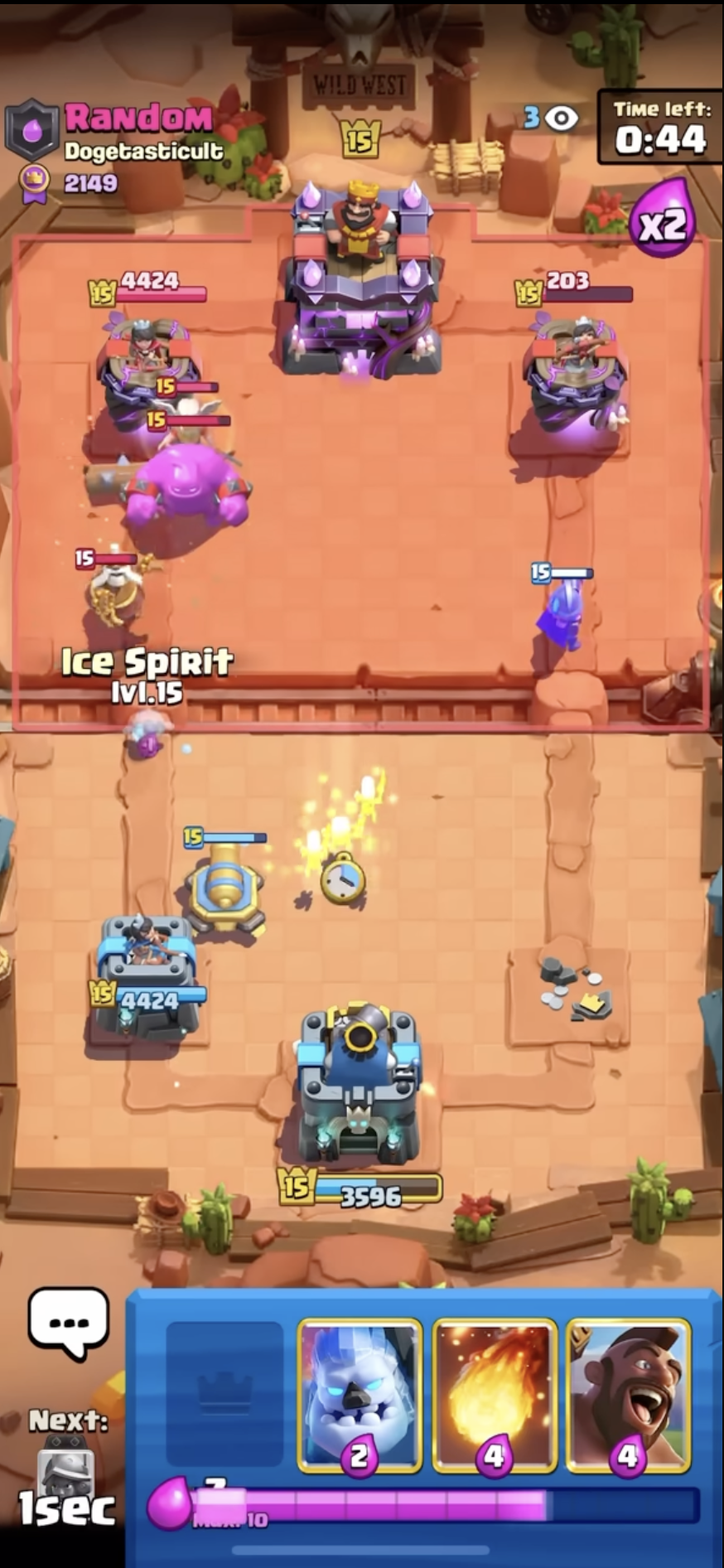cannon: (163, 815, 280, 951)
evo_musketeer: (505, 553, 604, 656)
